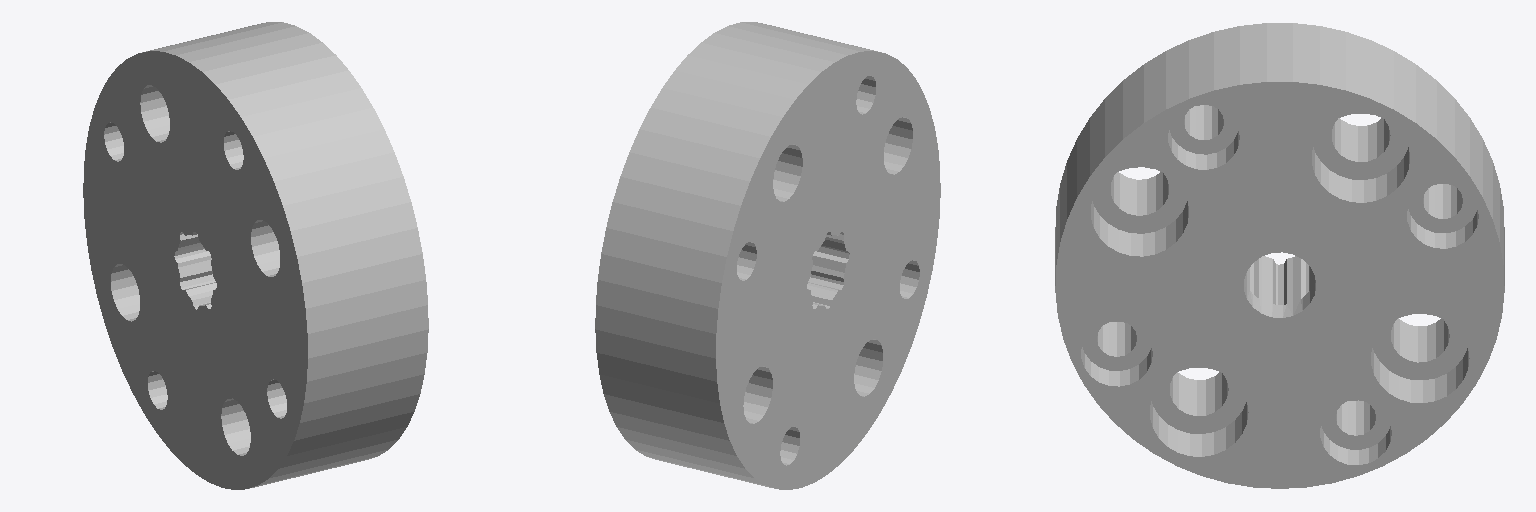
Rendered from tool.obj.
3 views of the same model, side by side, from view 1: azimuth 30°, elevation 25°; view 2: azimuth 150°, elevation 25°; view 3: azimuth 270°, elevation 25° (orthographic).
Parts seen in each view (by area): view 1: mesh1; view 2: mesh1; view 3: mesh1.
Boxes of the visible parts, x1=… form: mesh1: x1=83, y1=22, x2=428, y2=489; mesh1: x1=595, y1=22, x2=940, y2=489; mesh1: x1=1055, y1=23, x2=1504, y2=488.
Size of the model in its own units: 0.0155 by 0.05 by 0.05.